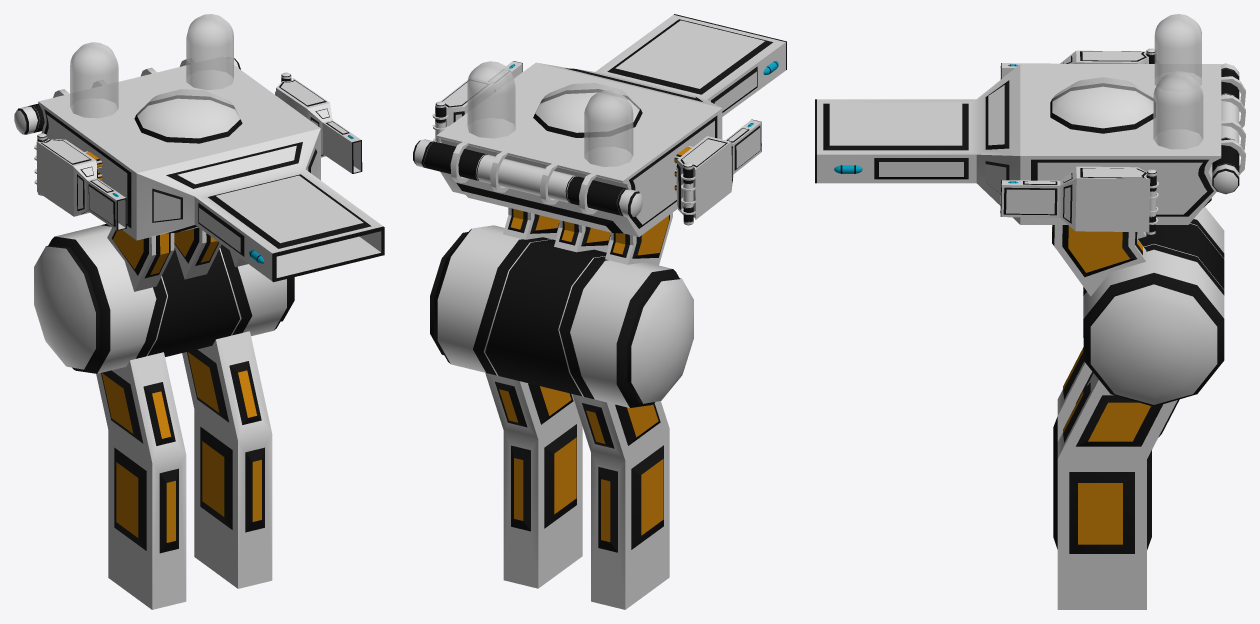
The model's file is tower_slow_upgrade1_asset.fbx.
The picture shows the model from 3 angles, left to right: view 1: azimuth 30°, elevation 25°; view 2: azimuth 150°, elevation 25°; view 3: azimuth 270°, elevation 25°; orthographic projection. The views are drawn at different scales.
Visible parts, largest first — view 1: slow_tower_top, slow_tower_bottom; view 2: slow_tower_bottom, slow_tower_top; view 3: slow_tower_top, slow_tower_bottom.
Boxes of the visible parts, x1=… form: slow_tower_top: x1=14, y1=14, x2=384, y2=291; slow_tower_bottom: x1=34, y1=224, x2=294, y2=609; slow_tower_bottom: x1=430, y1=225, x2=693, y2=609; slow_tower_top: x1=413, y1=14, x2=786, y2=265; slow_tower_top: x1=815, y1=14, x2=1245, y2=296; slow_tower_bottom: x1=1053, y1=206, x2=1224, y2=609.
Size of the model in its own units: 114 by 220 by 160.
